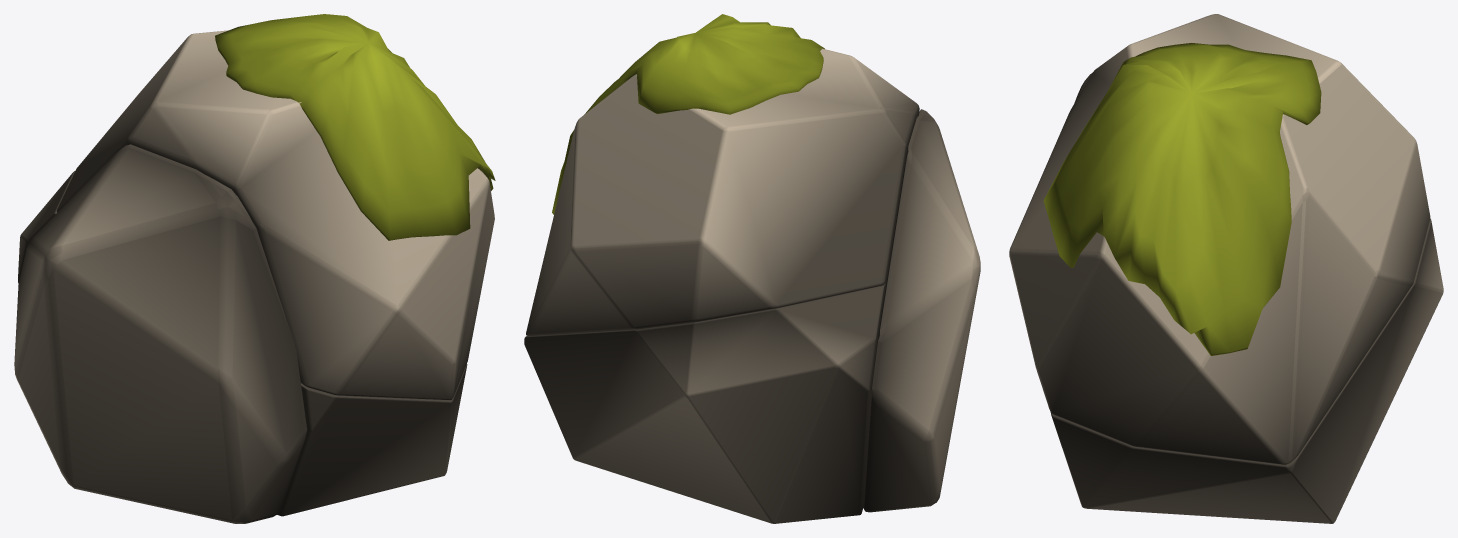
File: rock_02.glb
3 views of the same model, side by side, from view 1: azimuth 30°, elevation 25°; view 2: azimuth 150°, elevation 25°; view 3: azimuth 270°, elevation 25° (orthographic). The views are drawn at different scales.
Visible parts, largest first — view 1: rock_02, rock_02_moss; view 2: rock_02, rock_02_moss; view 3: rock_02, rock_02_moss.
Boxes of the visible parts, box(x1,y1,x2,y2) form: rock_02: box(14, 30, 494, 523); rock_02_moss: box(215, 14, 495, 240); rock_02: box(524, 48, 980, 523); rock_02_moss: box(552, 14, 824, 214); rock_02: box(1009, 14, 1443, 523); rock_02_moss: box(1043, 43, 1321, 355).
Bounding box in the file's own units: 1.17 × 1.05 × 1.
